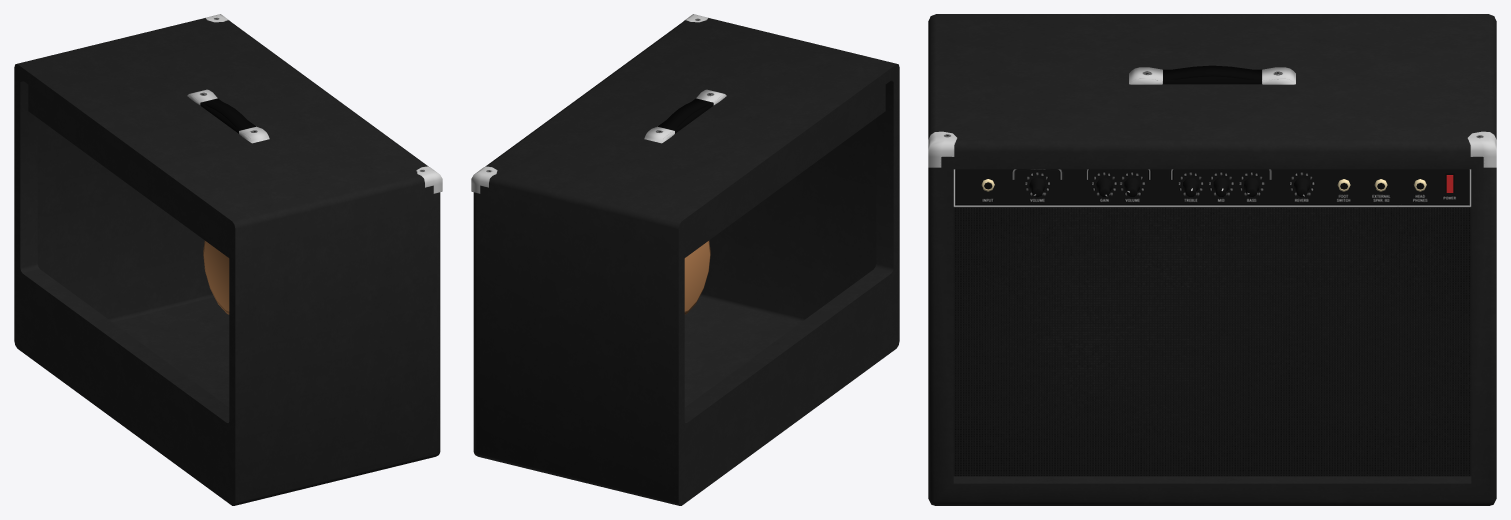
Rendered from electric_guitar_amplifier_free_prop.glb.
3 views of the same model, side by side, from view 1: azimuth 30°, elevation 25°; view 2: azimuth 150°, elevation 25°; view 3: azimuth 270°, elevation 25° (orthographic). The views are drawn at different scales.
Parts seen in each view (by area): view 1: Box, Top, Speaker; view 2: Box, Top, Speaker; view 3: Box, Top, Panel.
Part boxes in pixels (x1=…): Box: x1=14, y1=18, x2=440, y2=505; Top: x1=187, y1=14, x2=442, y2=193; Speaker: x1=203, y1=240, x2=229, y2=314; Box: x1=473, y1=18, x2=899, y2=505; Top: x1=471, y1=14, x2=726, y2=193; Speaker: x1=684, y1=240, x2=710, y2=314; Box: x1=928, y1=14, x2=1496, y2=505; Top: x1=928, y1=65, x2=1496, y2=167; Panel: x1=981, y1=172, x2=1454, y2=197.
Size of the model in its own units: 0.4172 by 0.5584 by 0.7681.
Materials: 4 (4 with a texture image).
